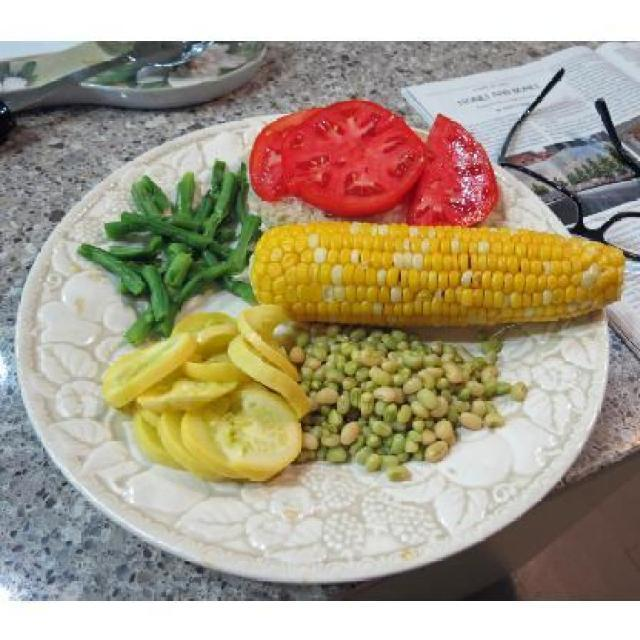Tomato: (278, 95, 424, 213), (247, 104, 326, 198), (422, 126, 498, 212)
